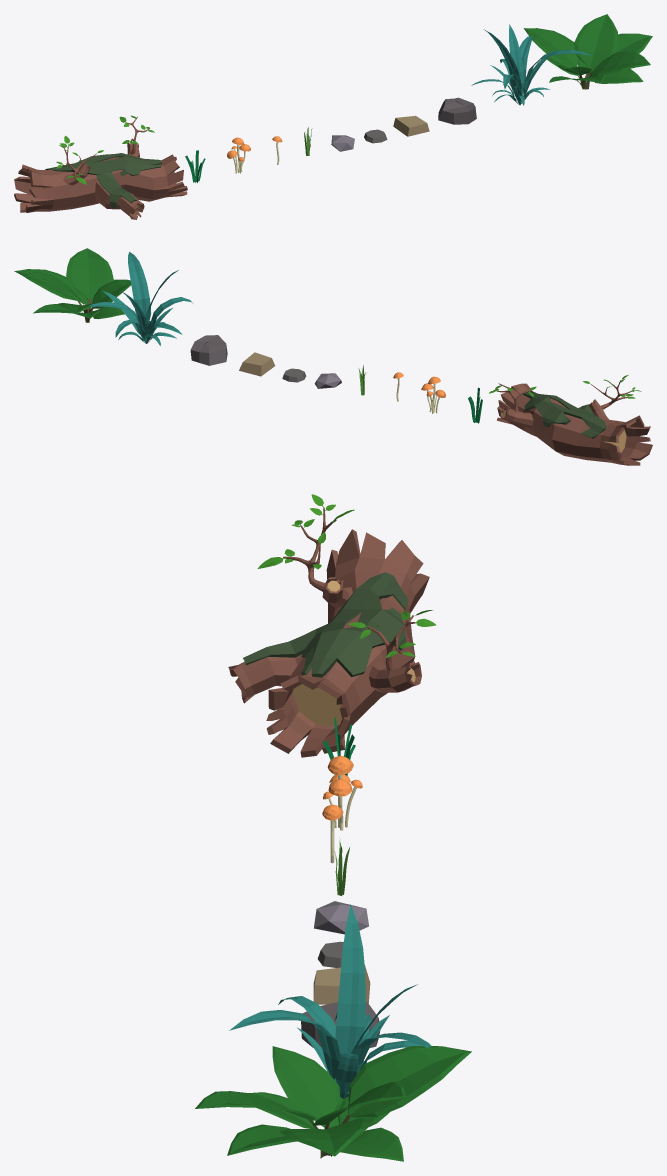
File: LP_objects_forest.glb
3 renders of one model, top to bottom at view 1: azimuth 30°, elevation 25°; view 2: azimuth 150°, elevation 25°; view 3: azimuth 270°, elevation 25°, orthographic. The views are drawn at different scales.
Visible parts, largest first — view 1: Бревно, кустарник, кустарник 2.001, камушек 2, камень плита 2, грибы, камушек 1; view 2: Бревно, кустарник, кустарник 2.001, камушек 2, камень плита 2, грибы, камушек 1; view 3: Бревно, кустарник, кустарник 2.001, грибы, камушек 1, камень плита 2.
Part boxes in pixels (<box>): Бревно: <box>14,115,187,219</box>; кустарник: <box>523,14,652,89</box>; кустарник 2.001: <box>471,24,592,105</box>; камушек 2: <box>438,97,476,124</box>; камень плита 2: <box>393,115,429,136</box>; грибы: <box>227,137,250,173</box>; камушек 1: <box>331,135,354,151</box>; Бревно: <box>489,375,652,465</box>; кустарник: <box>14,248,131,322</box>; кустарник 2.001: <box>89,252,193,345</box>; камушек 2: <box>190,335,227,365</box>; камень плита 2: <box>239,352,275,376</box>; грибы: <box>421,376,445,413</box>; камушек 1: <box>314,373,341,388</box>; Бревно: <box>228,494,436,757</box>; кустарник: <box>195,1046,471,1161</box>; кустарник 2.001: <box>229,904,431,1098</box>; грибы: <box>323,756,362,830</box>; камушек 1: <box>314,901,368,934</box>; камень плита 2: <box>313,965,370,1004</box>.
Bounding box in the file's own units: 4.03 × 0.5116 × 0.7736.
